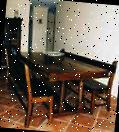Mesa: (13, 49, 111, 121)
Silla: (0, 46, 57, 129), (51, 47, 116, 117)
